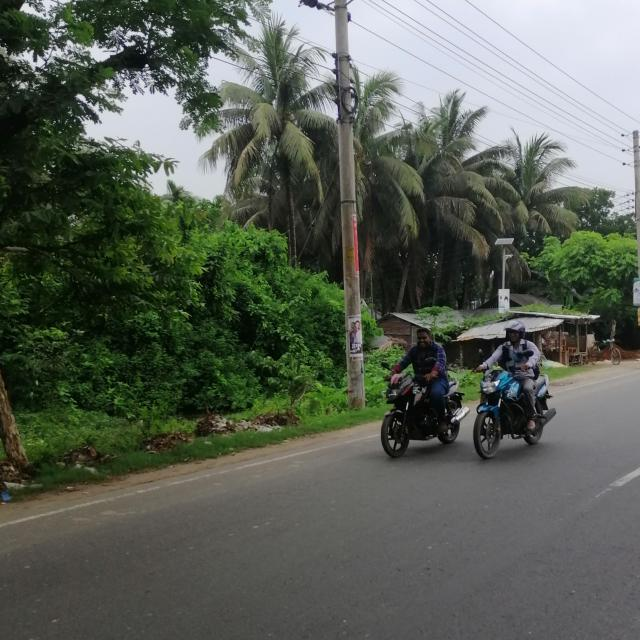Motorbike: (468, 357, 557, 471), (373, 362, 469, 464)
